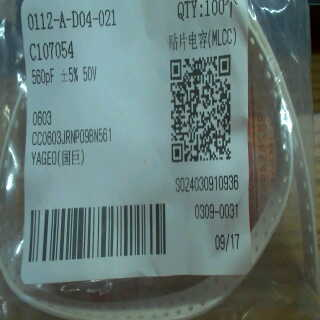560pF: (29, 65, 57, 88)
